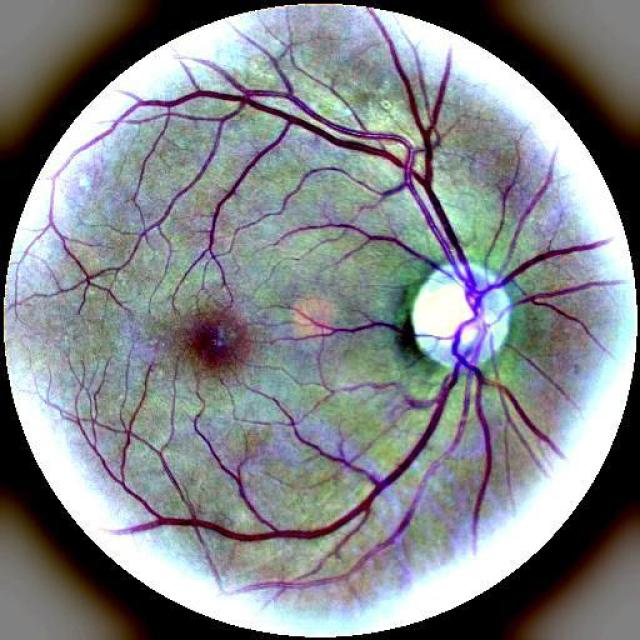Macula: (176, 306, 251, 375)
Nerves: (378, 20, 466, 264)
Optic Disk: (411, 265, 514, 370)
